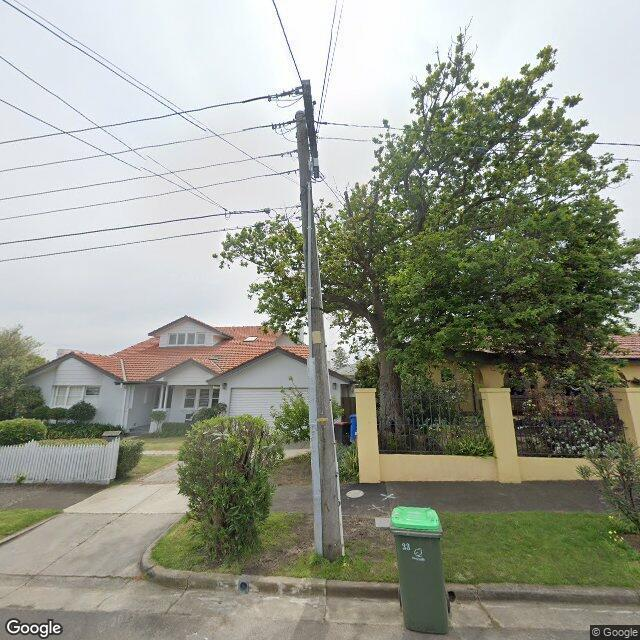crossarm: (302, 80, 318, 178)
timber-pole: (295, 111, 342, 561)
